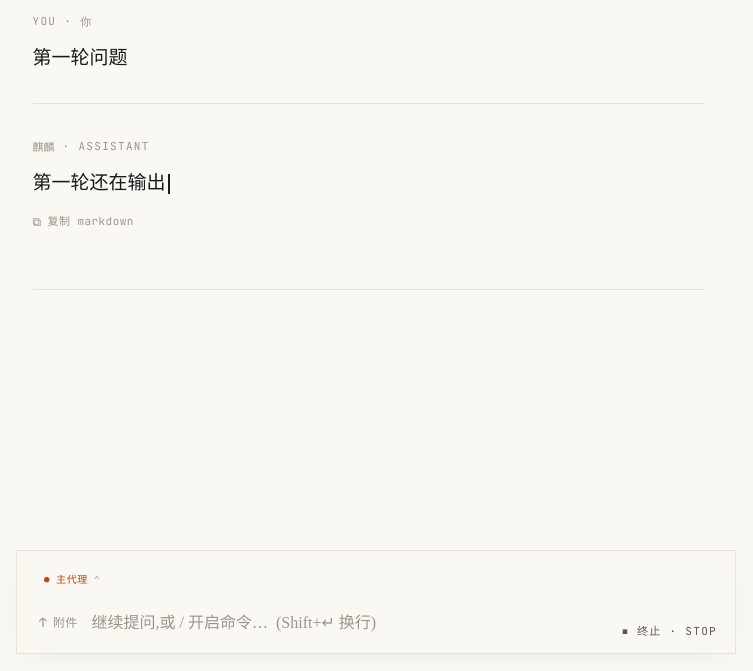
Test: ConversationView queued sends › queues a user submit while the assistant turn is streaming, then sends after ready
This screenshot has width=753, height=671.
In the text box with test id "composer-input": point(352, 624) [92, 607, 612, 641], type "第二轮问题"
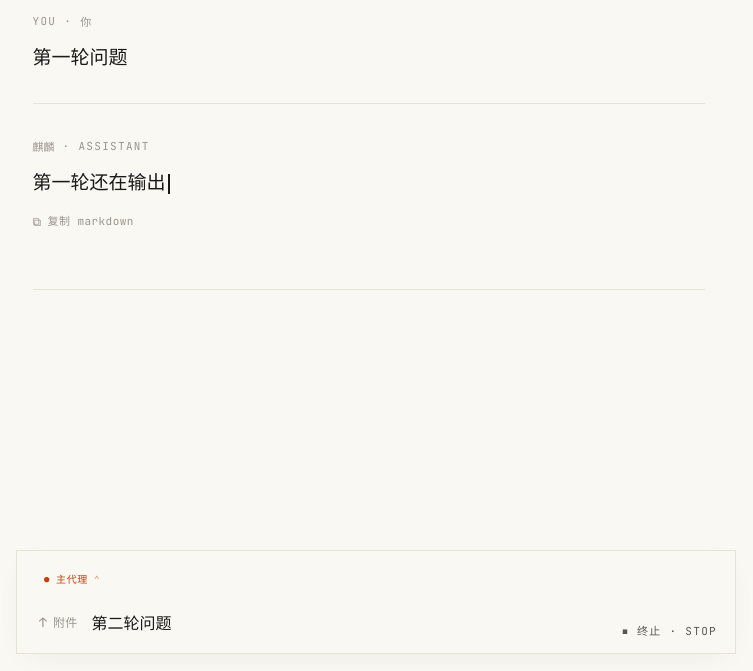
Press Enter in the text box with test id "composer-input", box [92, 607, 612, 641]
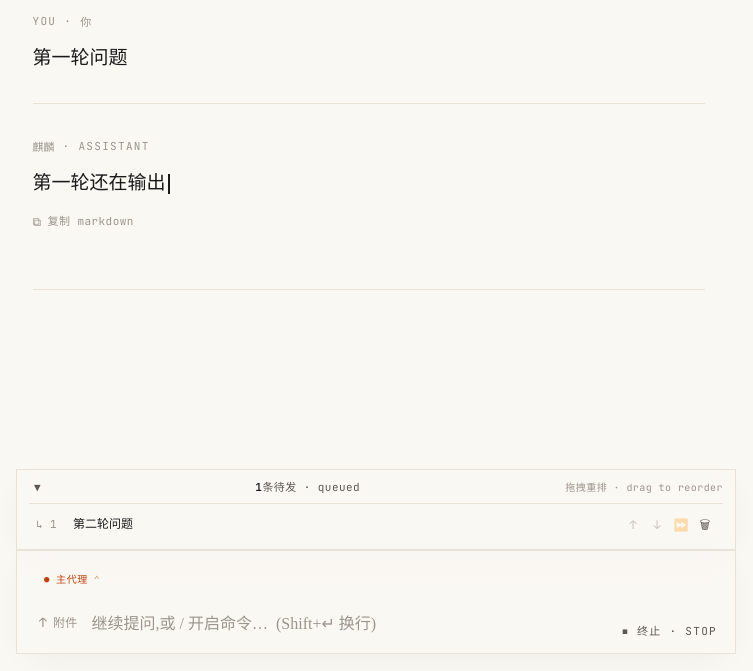
expect the element with test id "queue-area" is shown: met, box [16, 469, 736, 550]
expect the element with test id "queue-area" shows "第二轮问题": met, box [68, 511, 618, 538]
expect the element with test id "queue-area" shows "1": met, box [255, 480, 262, 494]
